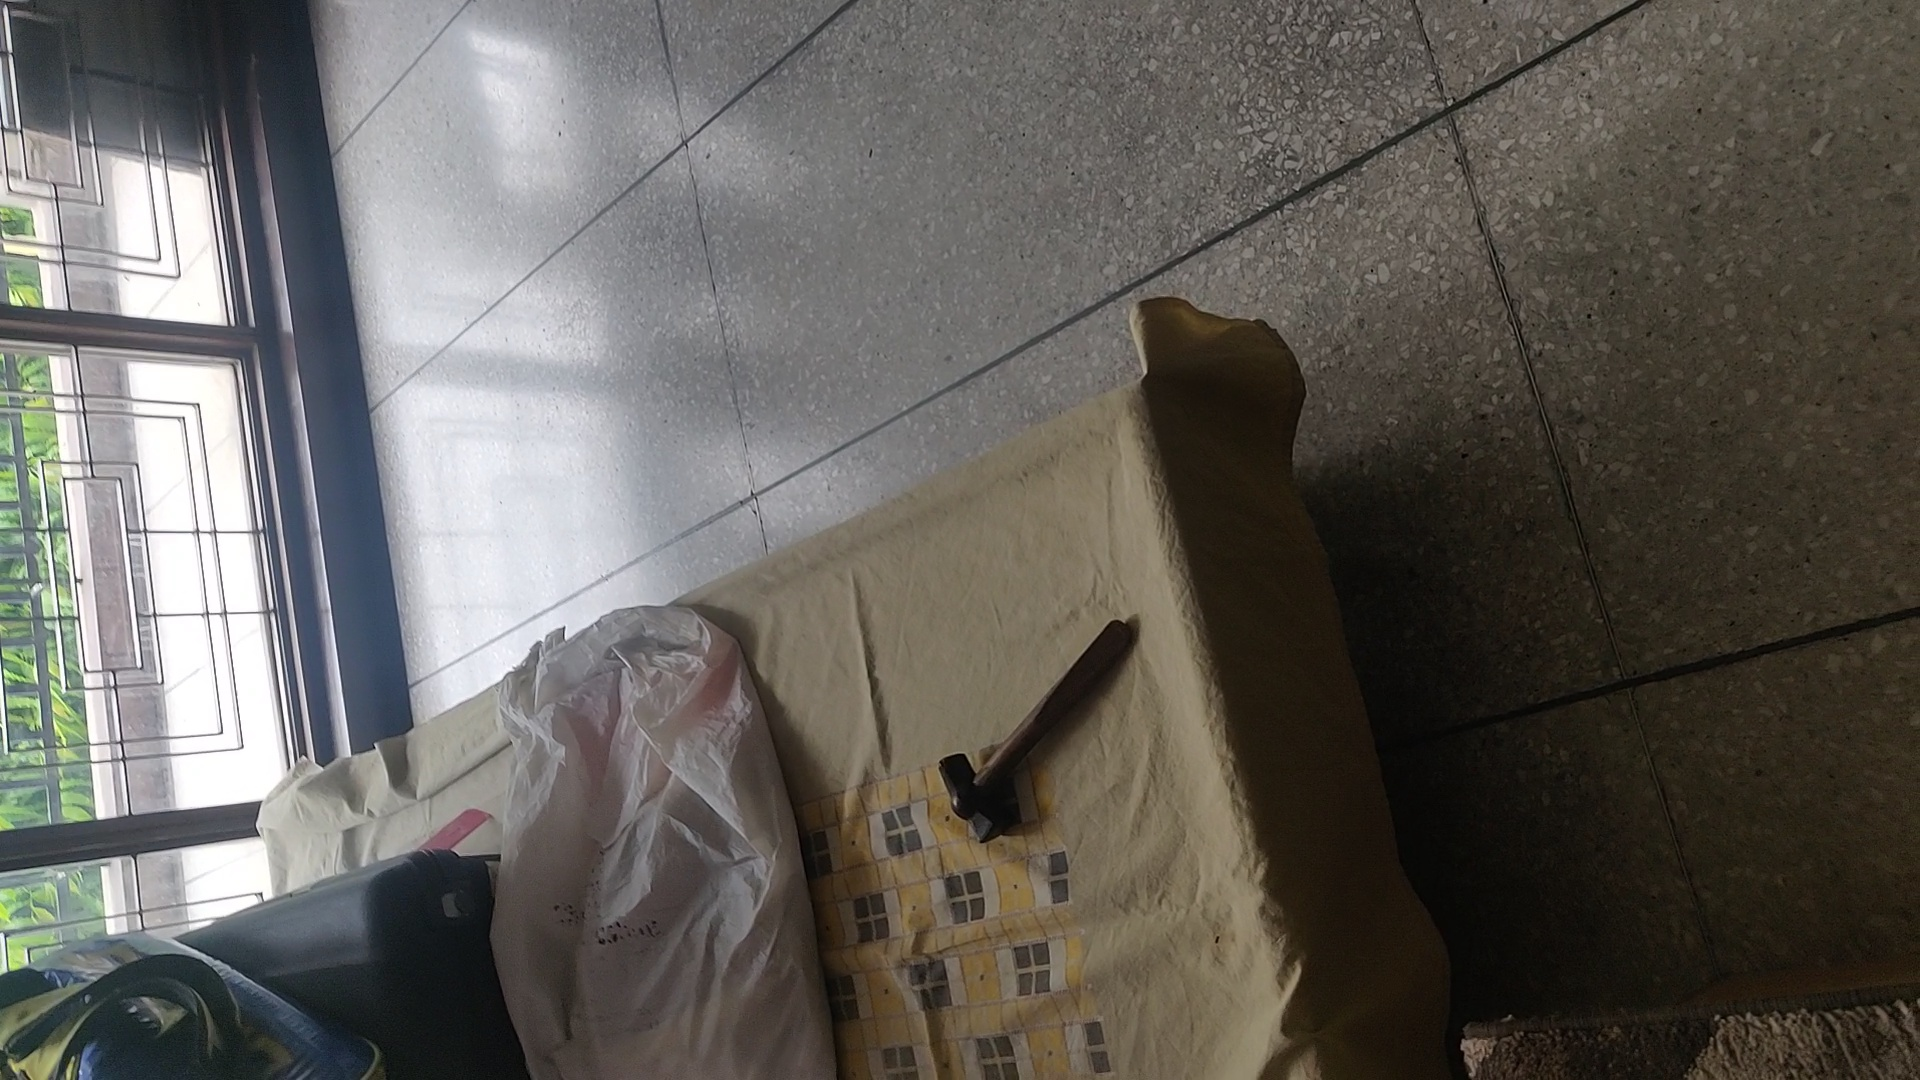hammer: (931, 618, 1138, 847)
